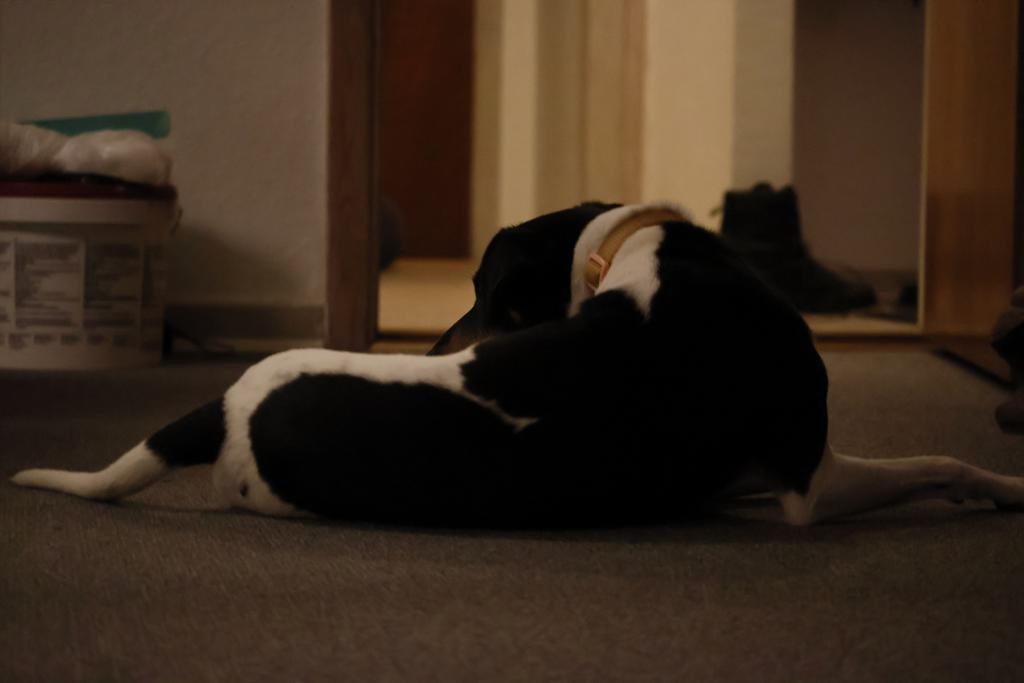Dog: (8, 190, 1024, 546)
